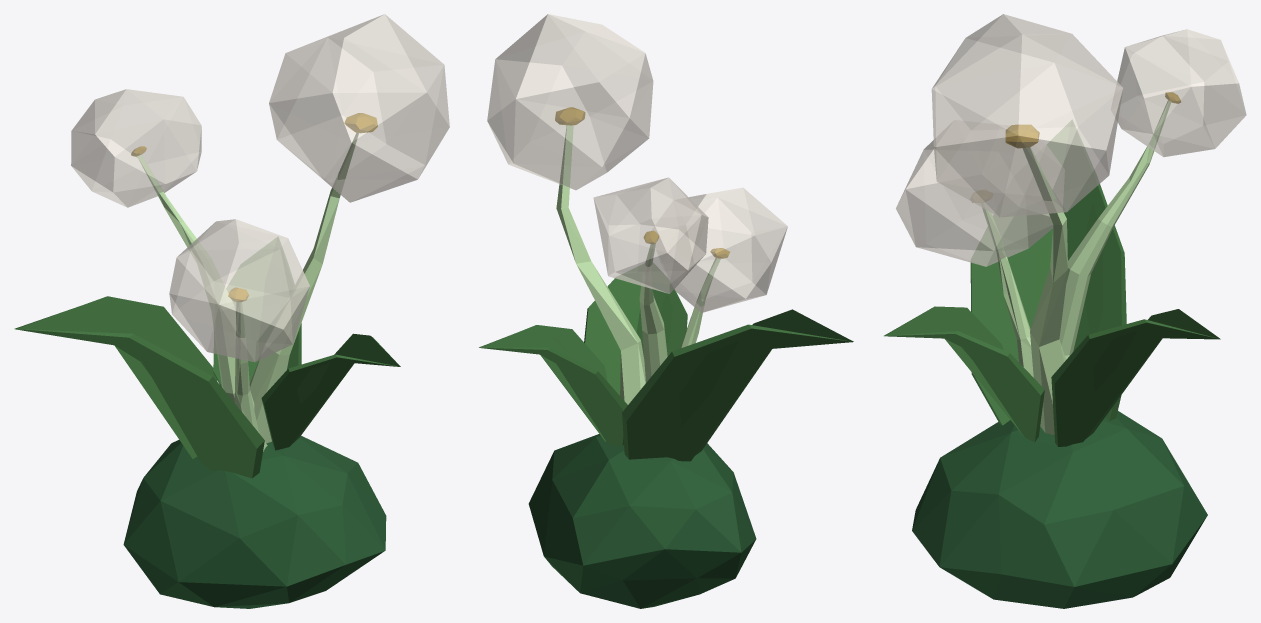
Rendered from low_poly_dandelion_v2.fbx.
The picture shows the model from 3 angles, left to right: view 1: azimuth 30°, elevation 25°; view 2: azimuth 150°, elevation 25°; view 3: azimuth 270°, elevation 25°; orthographic projection. The views are drawn at different scales.
Parts seen in each view (by area): view 1: Ground.001, Puff.005, Leaves 3.001, Puff.004, Puff.003, Leaves 1.001, Stem.005, Leaves 2.001, Stem.003, Stem.004; view 2: Ground.001, Puff.005, Leaves 3.001, Puff.004, Puff.003, Leaves 2.001, Leaves 1.001, Stem.005, Stem.003, Stem.004; view 3: Ground.001, Puff.005, Puff.004, Leaves 3.001, Puff.003, Leaves 2.001, Leaves 1.001, Stem.005, Stem.003, Stem.004, Flower center.005.
Boxes of the visible parts, x1,y1,x2,y2 form: Ground.001: (123,435,386,608); Puff.005: (269,14,449,202); Leaves 3.001: (14,296,264,478); Puff.004: (169,219,309,362); Puff.003: (71,89,201,207); Leaves 1.001: (261,333,400,450); Stem.005: (249,133,358,443); Leaves 2.001: (213,237,301,386); Stem.003: (137,155,254,409); Stem.004: (234,302,267,451); Ground.001: (528,434,756,608); Puff.005: (487,14,653,190); Leaves 3.001: (622,309,853,461); Puff.004: (652,187,787,312); Puff.003: (593,177,708,293); Leaves 2.001: (479,325,627,445); Leaves 1.001: (584,263,687,395); Stem.005: (556,125,645,404); Stem.003: (639,243,667,382); Stem.004: (680,258,720,348); Ground.001: (912,411,1207,608); Puff.005: (931,14,1123,217); Puff.004: (896,120,1064,266); Leaves 3.001: (970,120,1126,425); Puff.003: (1111,29,1246,157); Leaves 2.001: (1051,309,1220,446); Leaves 1.001: (884,306,1044,442); Stem.005: (1022,147,1067,434); Stem.003: (1059,100,1170,359); Stem.004: (982,207,1033,377); Flower center.005: (1006,124,1039,147).
Bounding box in the file's own units: 452 × 600 × 317.
